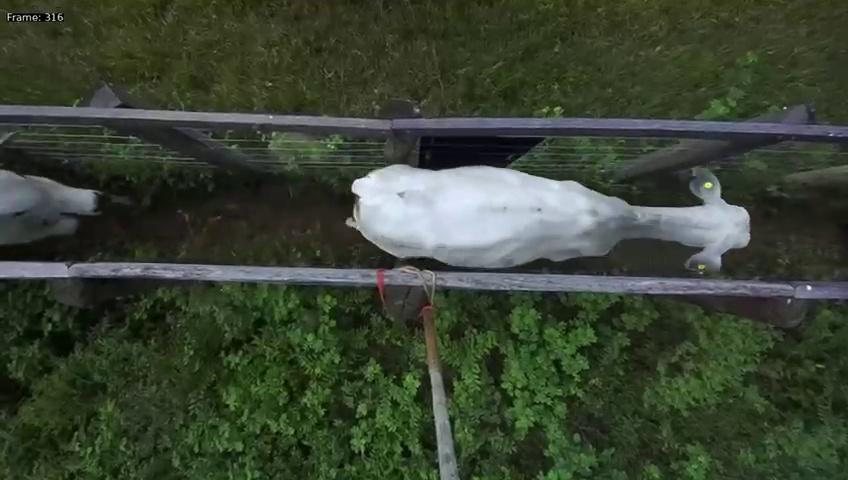cattle: (341, 163, 751, 276)
